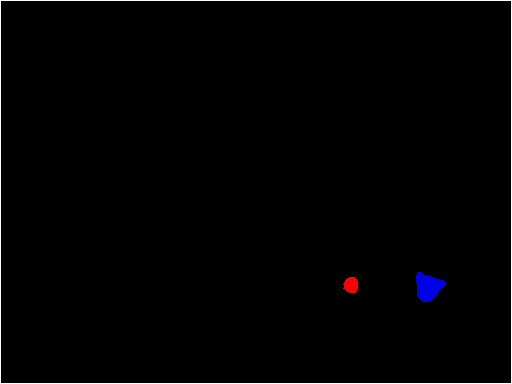chipped: (421, 277, 441, 301)
detached: (343, 275, 358, 291)
